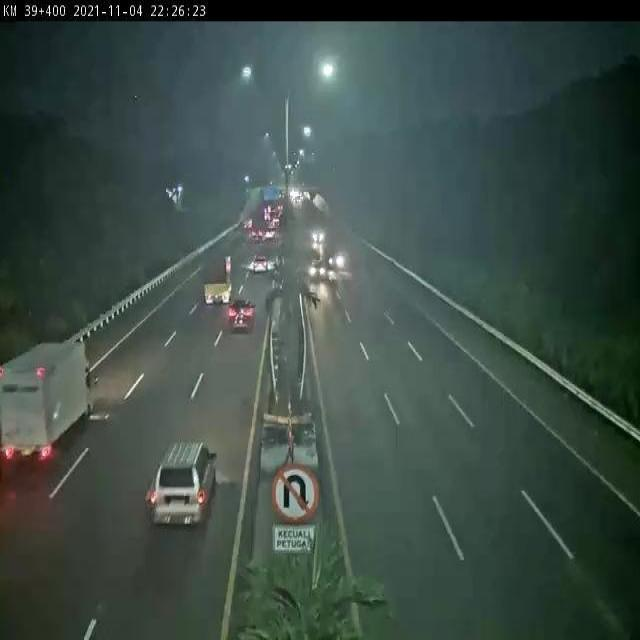Car: (135, 430, 224, 534), (228, 298, 251, 330), (307, 252, 327, 282), (307, 220, 327, 247), (251, 252, 270, 275), (328, 246, 346, 270), (240, 217, 255, 234)
Truck: (0, 322, 115, 481), (197, 247, 239, 312)
